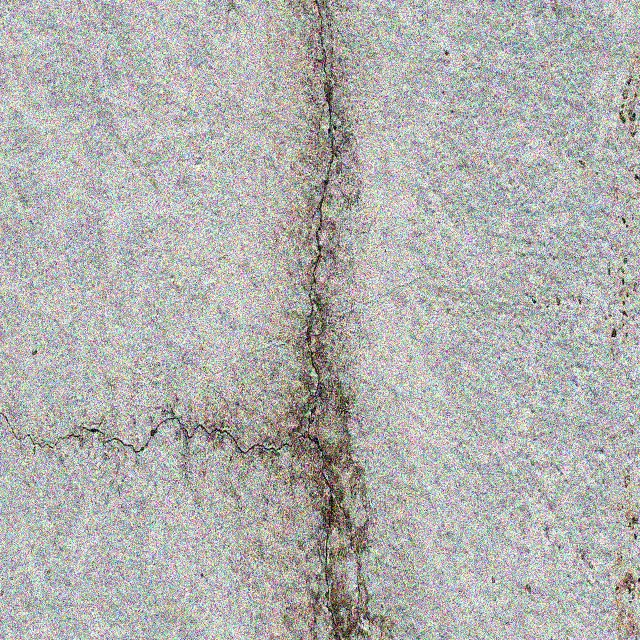SurfaceCrack: (259, 0, 416, 640), (567, 0, 640, 639)
